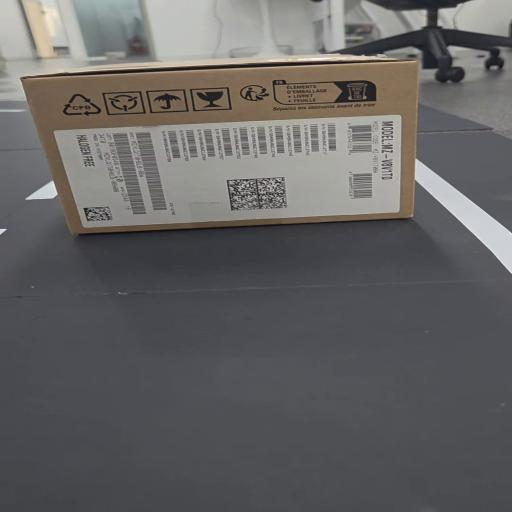Box: (11, 62, 449, 244)
